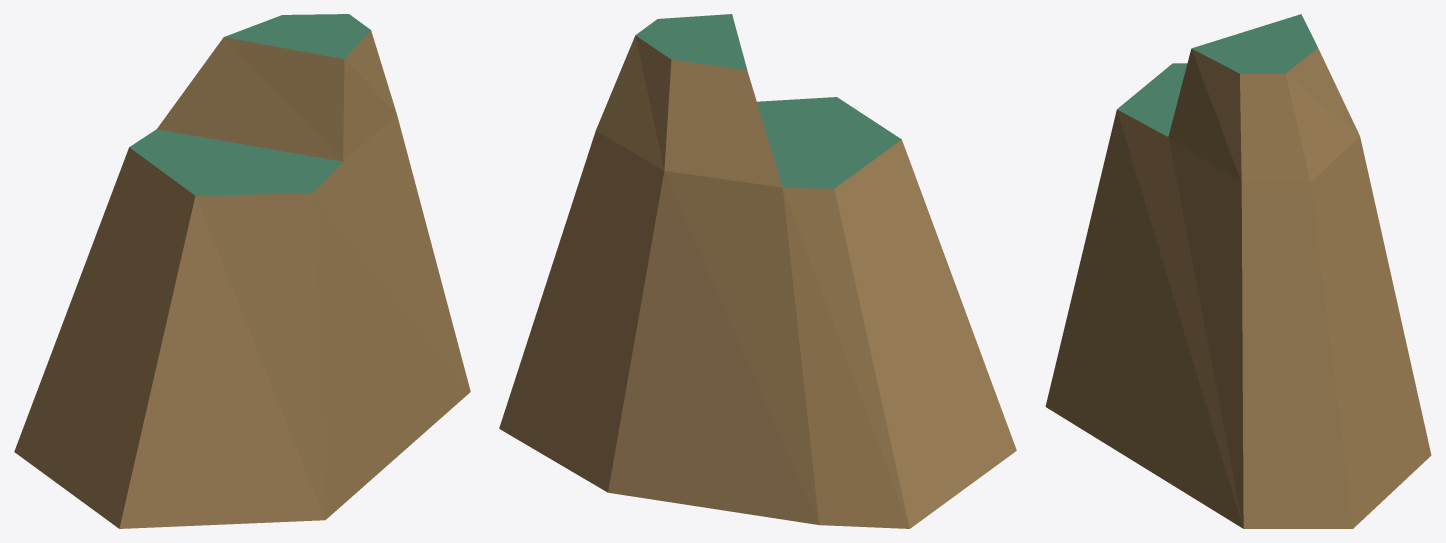
Rendered from Rock_Small_Mesa_Eroded_Moss_Grass_01.FBX.
3 views of the same model, side by side, from view 1: azimuth 30°, elevation 25°; view 2: azimuth 150°, elevation 25°; view 3: azimuth 270°, elevation 25° (orthographic). The views are drawn at different scales.
Parts seen in each view (by area): view 1: Rock_Small_Mesa_Eroded_Moss_Grass_01; view 2: Rock_Small_Mesa_Eroded_Moss_Grass_01; view 3: Rock_Small_Mesa_Eroded_Moss_Grass_01.
Part boxes in pixels (box(x1,y1,x2,y2)): Rock_Small_Mesa_Eroded_Moss_Grass_01: box(14, 14, 470, 528); Rock_Small_Mesa_Eroded_Moss_Grass_01: box(499, 14, 1016, 528); Rock_Small_Mesa_Eroded_Moss_Grass_01: box(1045, 14, 1431, 528).
Size of the model in its own units: 2406 by 2208 by 1914.
